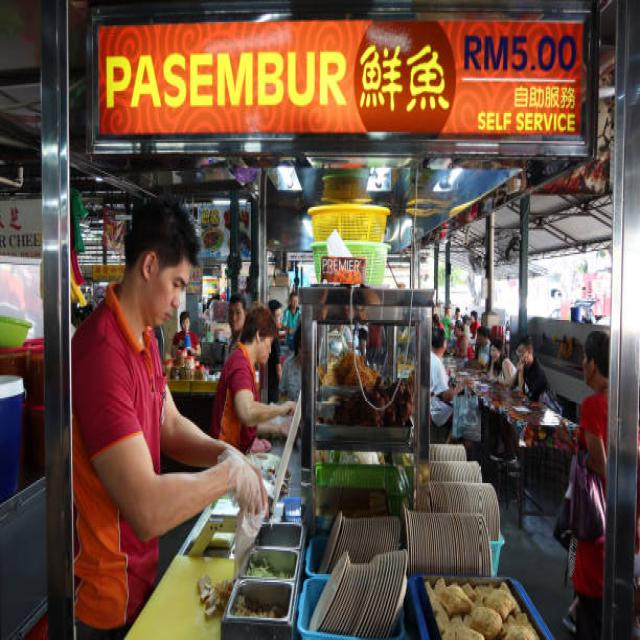Emperan: (53, 0, 604, 640)
